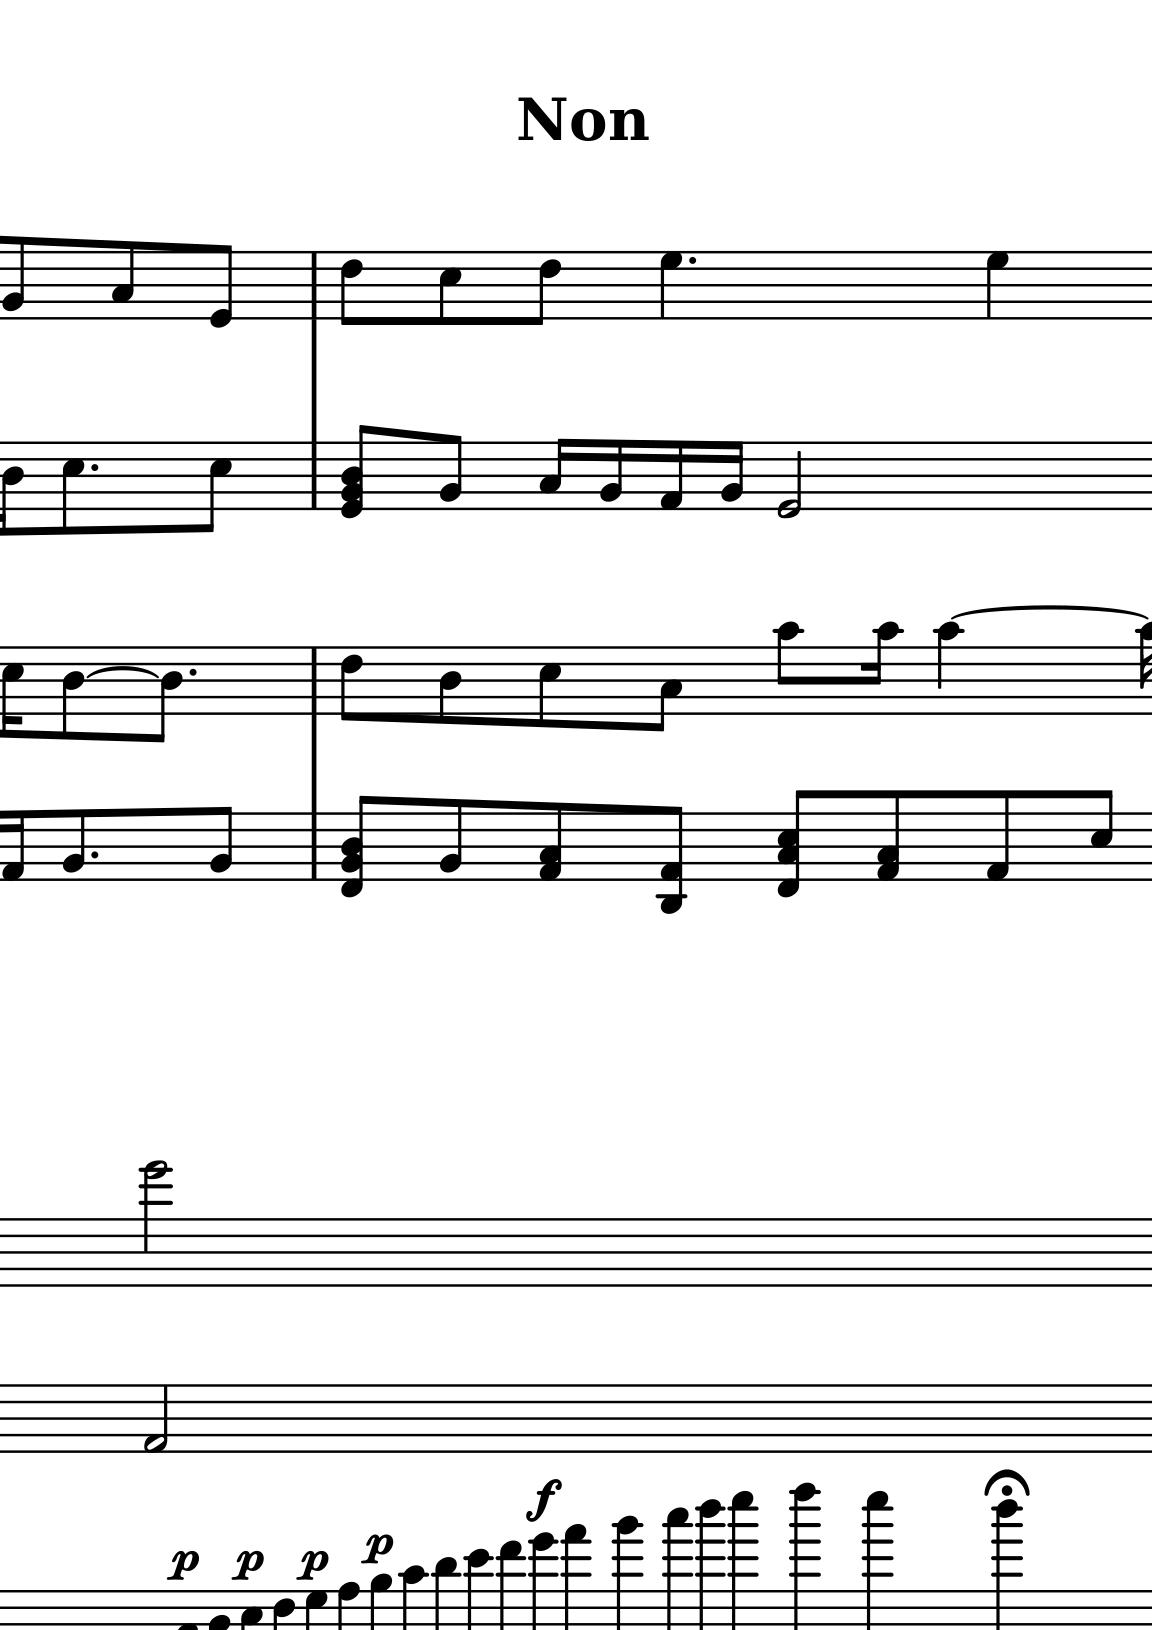16_1: (660, 437, 684, 511), (2, 808, 26, 884)
16_10: (860, 621, 900, 717)
16_2: (597, 437, 625, 512), (721, 439, 746, 512)
16_3: (539, 437, 570, 512)
16_5: (1, 646, 25, 740)
2_0: (777, 439, 804, 518)
2_14: (141, 1158, 168, 1289)
2_3: (145, 1385, 170, 1456)
4_10: (936, 621, 961, 718)
4_7: (982, 249, 1012, 322), (660, 249, 684, 322)
8_-3_1: (655, 804, 689, 916)
8_0: (208, 242, 234, 330)
8_1: (982, 788, 1011, 882)
8_10: (775, 621, 803, 717)
8_1_3: (876, 789, 903, 882), (539, 800, 564, 884)
8_2: (1, 233, 27, 322), (440, 798, 464, 884), (209, 805, 234, 884), (439, 432, 463, 511), (64, 808, 87, 884)
8_3: (648, 644, 684, 733), (112, 241, 137, 320)
8_4: (146, 643, 185, 743), (61, 646, 85, 740), (438, 644, 463, 725)
8_5: (197, 439, 233, 535), (61, 440, 87, 537), (1088, 788, 1113, 882), (536, 644, 562, 730), (438, 249, 464, 328)
8_6: (529, 249, 562, 328), (339, 644, 365, 723), (339, 249, 364, 328)
8_th: (342, 793, 377, 898), (777, 788, 809, 898), (339, 422, 377, 518)
Fermata_above: (984, 1467, 1031, 1498)
Slur: (953, 604, 1152, 621), (300, 813, 329, 881), (300, 648, 329, 715), (302, 252, 328, 320), (302, 442, 327, 510), (89, 665, 160, 680)
dot: (86, 457, 103, 479), (183, 662, 201, 683), (684, 250, 702, 270), (684, 253, 701, 268), (87, 460, 101, 475), (188, 663, 198, 679)
f: (524, 1470, 567, 1527)
p: (166, 1544, 207, 1581), (358, 1529, 398, 1563), (232, 1547, 266, 1580), (298, 1548, 330, 1581)
